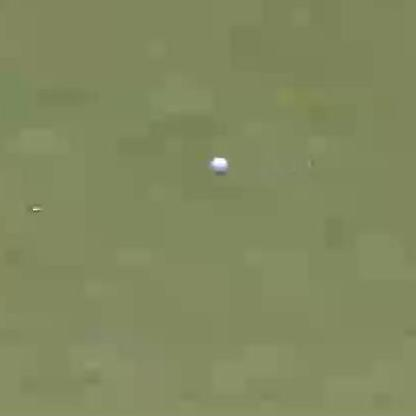golfball: (207, 154, 227, 174)
